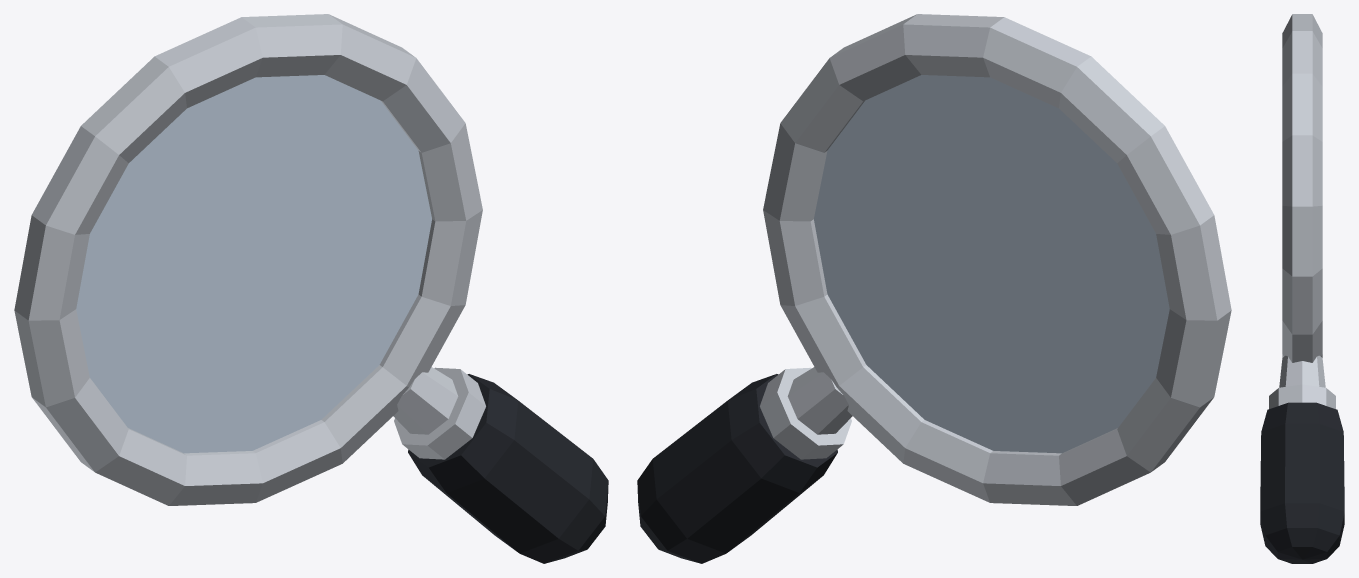
Rendered from magnifier.glb.
3 renders of one model, left to right at view 1: azimuth 30°, elevation 25°; view 2: azimuth 150°, elevation 25°; view 3: azimuth 270°, elevation 25°, orthographic. The views are drawn at different scales.
Visible parts, largest first — view 1: magnifier; view 2: magnifier; view 3: magnifier.
Boxes of the visible parts, x1,y1,x2,y2 form: magnifier: (14, 14, 608, 563); magnifier: (637, 14, 1231, 563); magnifier: (1260, 14, 1344, 563).
Bounding box in the file's own units: 2.11 × 2.11 × 0.3788.
